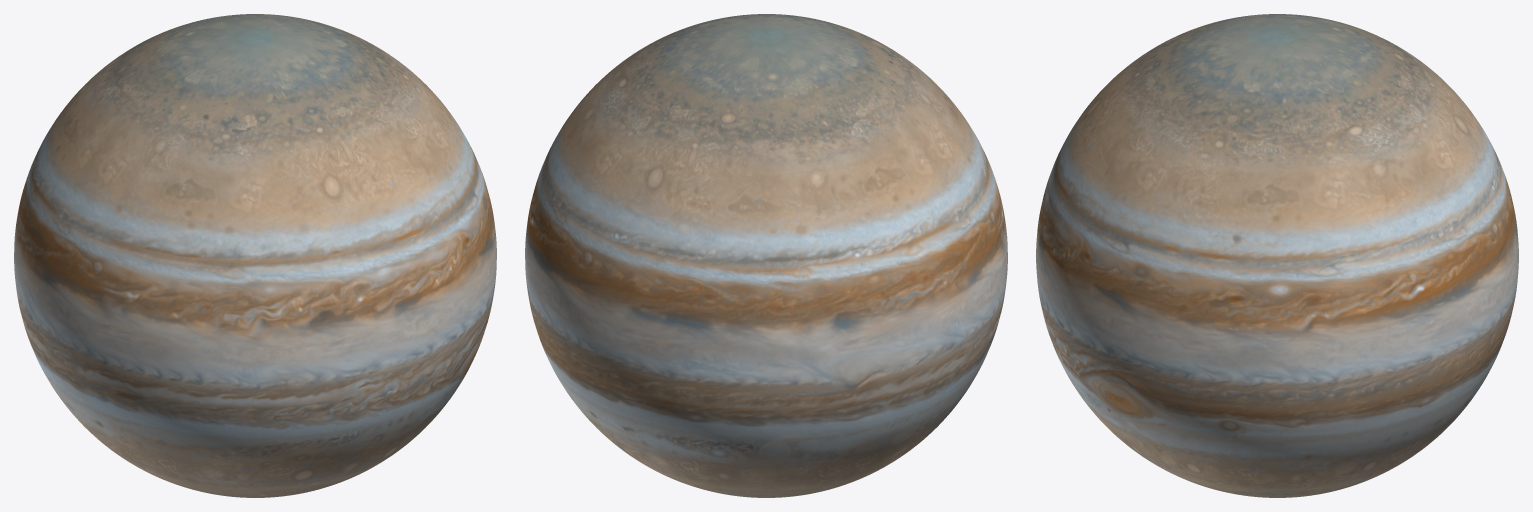
File: Jupiter.glb
The picture shows the model from 3 angles, left to right: view 1: azimuth 30°, elevation 25°; view 2: azimuth 150°, elevation 25°; view 3: azimuth 270°, elevation 25°; orthographic projection.
Visible parts, largest first — view 1: Jupiter; view 2: Jupiter; view 3: Jupiter.
Boxes of the visible parts, bbox=[...] form: Jupiter: bbox=[14, 14, 496, 497]; Jupiter: bbox=[525, 14, 1007, 497]; Jupiter: bbox=[1036, 14, 1518, 497].
Size of the model in its own units: 1.99 by 2 by 1.99.
1 material, 1 textured.
